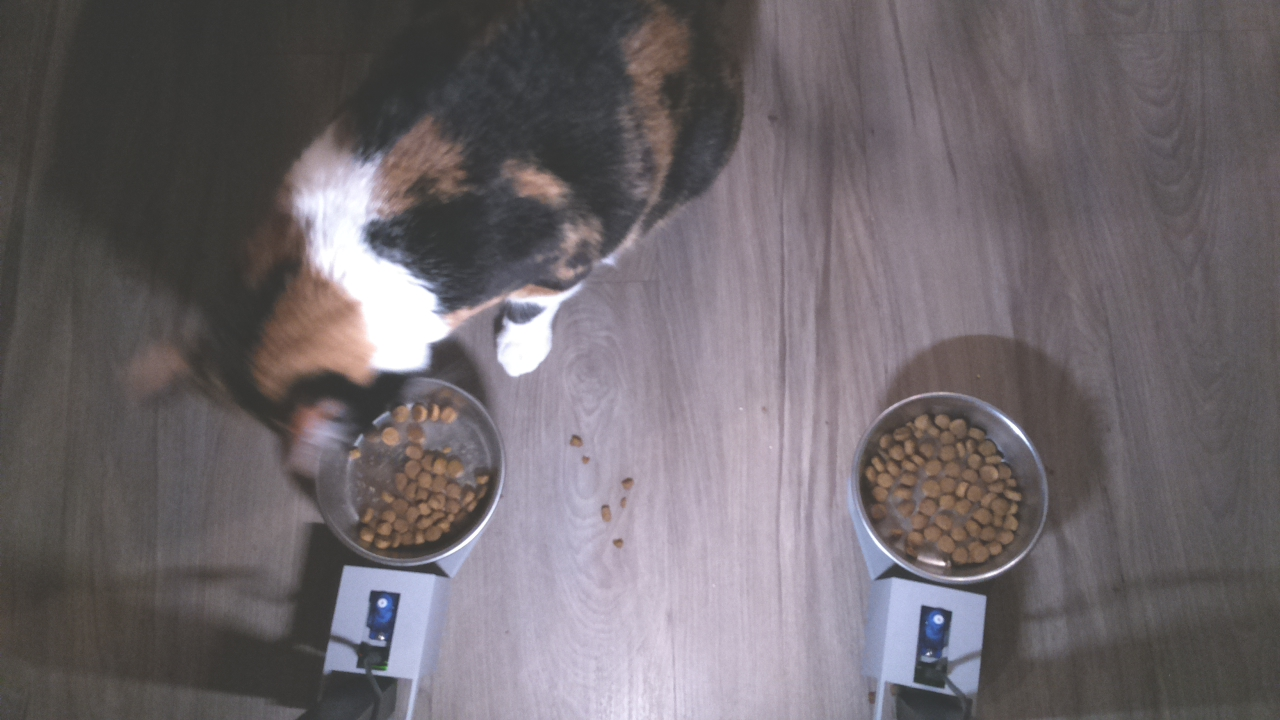bella: (118, 212, 425, 447)
open_bowl: (848, 390, 1050, 590), (323, 386, 508, 573)
